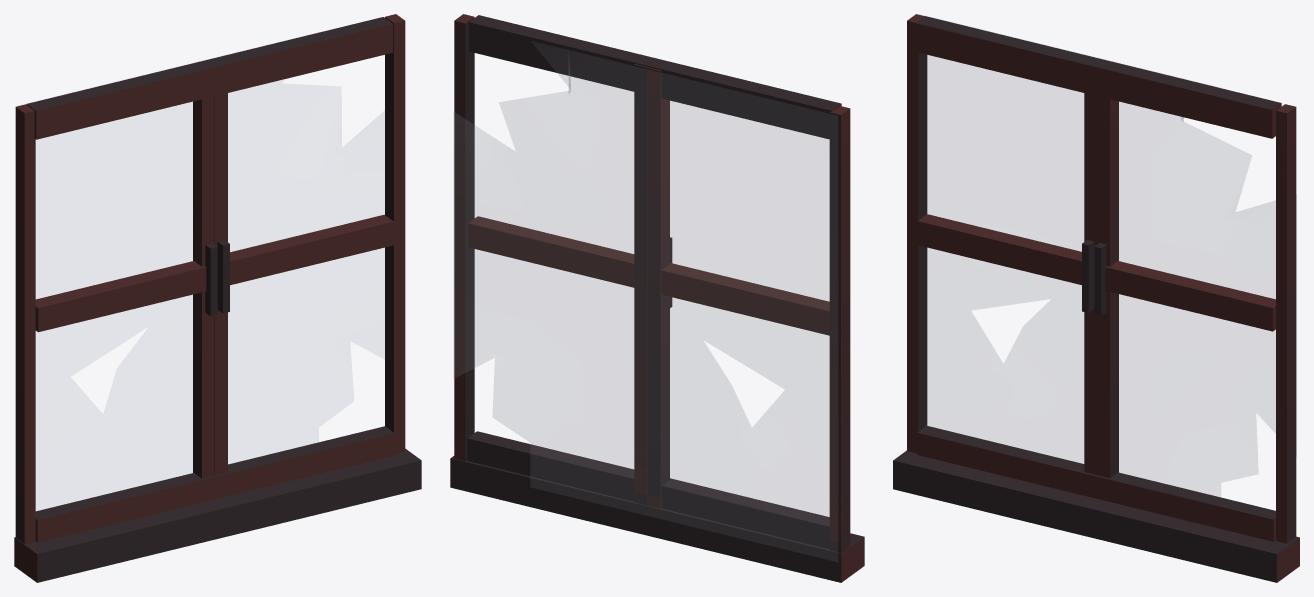
Rendered from ventana1contextura.fbx.
3 views of the same model, side by side, from view 1: azimuth 30°, elevation 25°; view 2: azimuth 150°, elevation 25°; view 3: azimuth 330°, elevation 25° (orthographic).
Parts seen in each view (by area): view 1: pPlane1; view 2: pPlane1; view 3: pPlane1.
Part boxes in pixels (x1,y1,x2,y2): pPlane1: (14, 14, 421, 582); pPlane1: (450, 14, 864, 582); pPlane1: (893, 14, 1299, 582).
Size of the model in its own units: 1.96 by 2.24 by 0.2438.
Materials: 2 (1 with a texture image).
